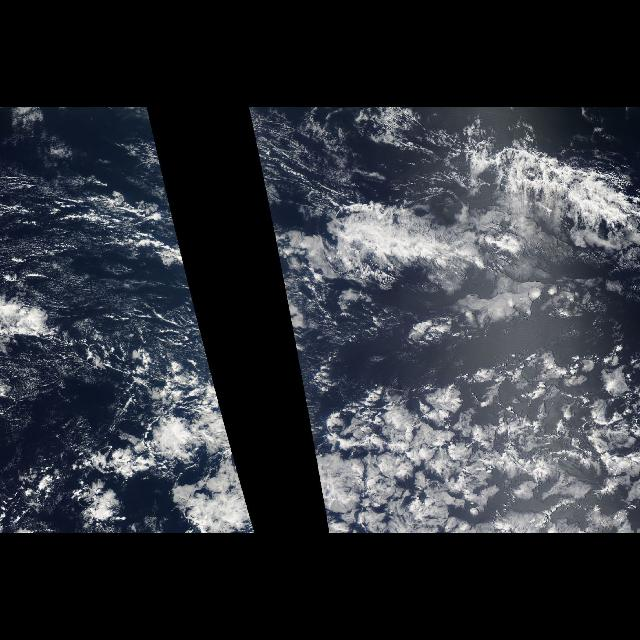Fish: (321, 125, 639, 299)
Flower: (303, 349, 635, 533)
